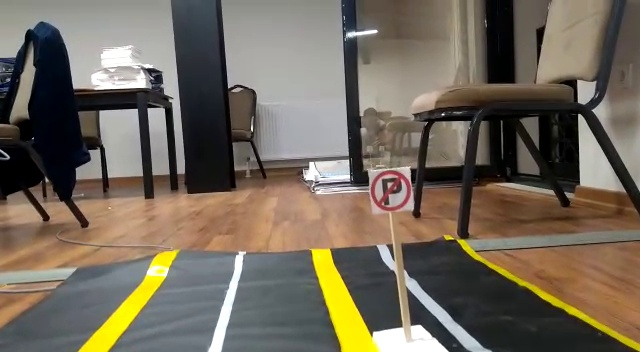park_yapilmaz: (369, 170, 415, 211)
